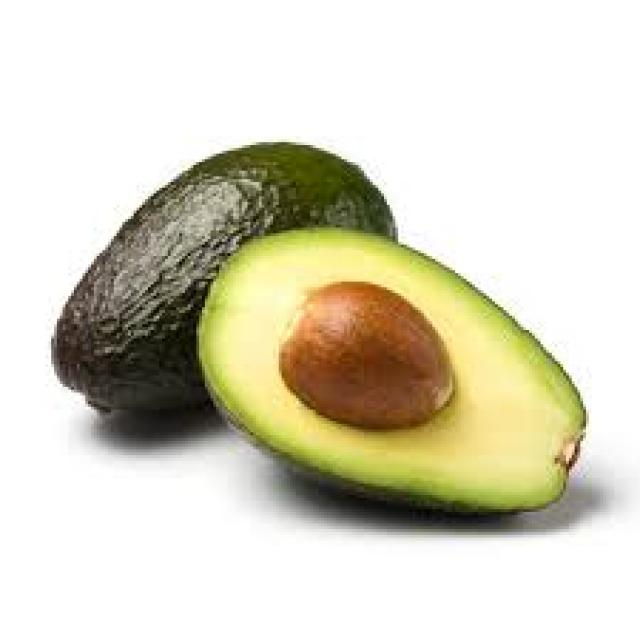organic waste: (191, 230, 586, 515), (51, 137, 398, 416), (279, 279, 452, 432)
